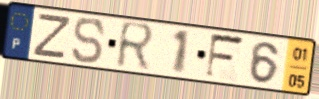1: (169, 28, 192, 75)
6: (249, 40, 283, 85)
F: (203, 32, 248, 81)
R: (114, 19, 158, 74)
S: (71, 16, 108, 66)
Z: (30, 12, 74, 61)
